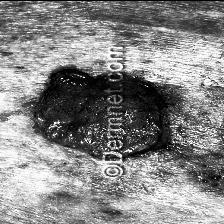Potentially Malignant Skin Tumors: (34, 69, 164, 156)
